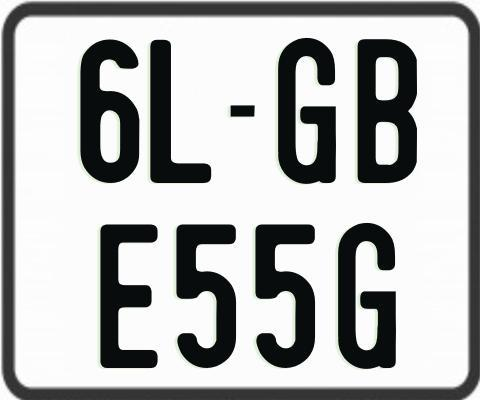5: (253, 223, 318, 369), (175, 224, 235, 370)
6: (78, 39, 140, 187)
B: (355, 37, 415, 186)
E: (99, 225, 162, 369)
G: (337, 223, 401, 370), (276, 38, 338, 185)
L: (150, 37, 215, 184)
